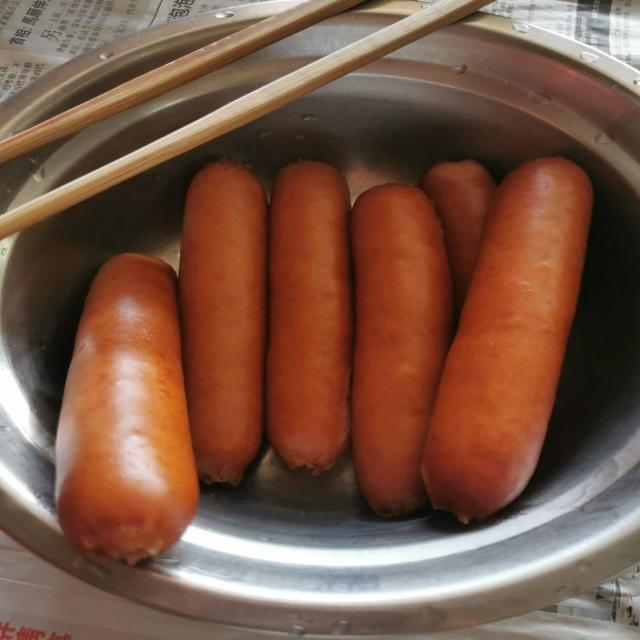sausage: (423, 158, 592, 523), (56, 254, 198, 563), (352, 185, 453, 515), (180, 160, 266, 484), (267, 161, 353, 473), (420, 160, 496, 313)
